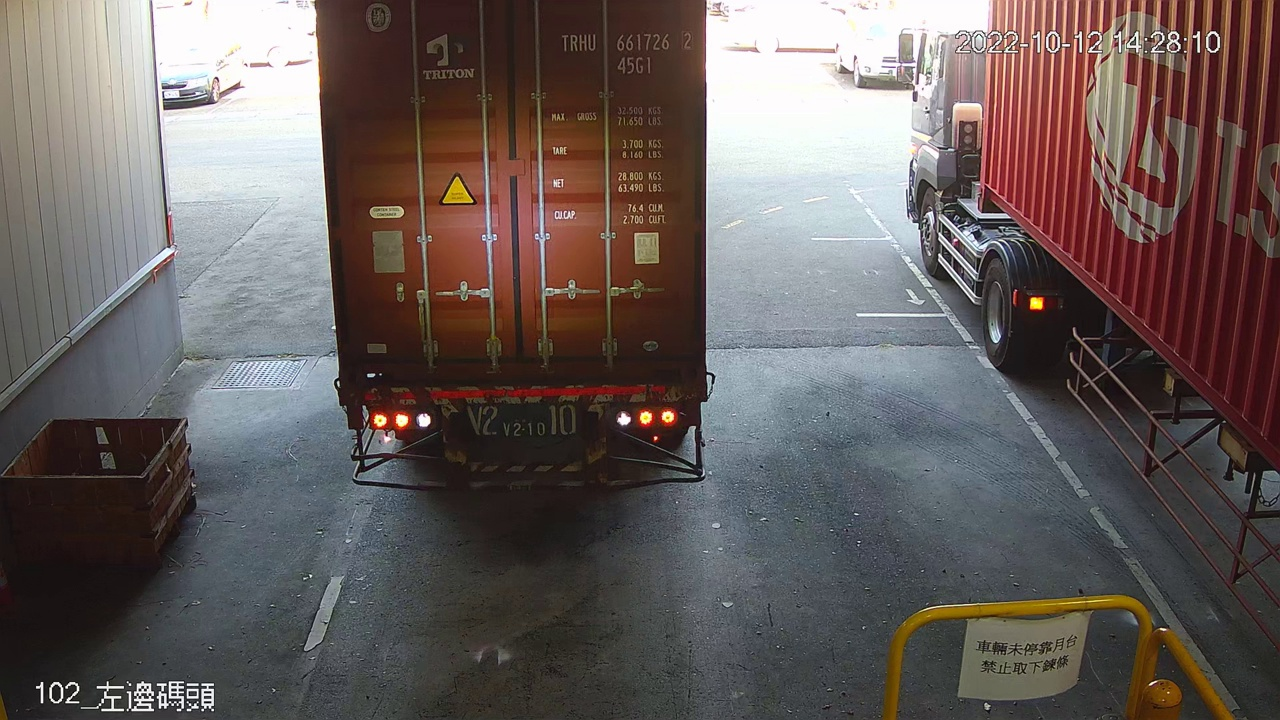container: (553, 25, 697, 80)
